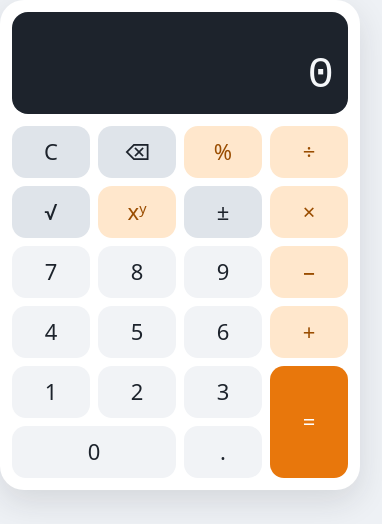
Calculator › keeps a pending operator across a square root: 9 + √16 = displays 13
The width and height of the screenshot is (382, 524).
Click the button "9" at (223, 272), box [184,246,262,298]
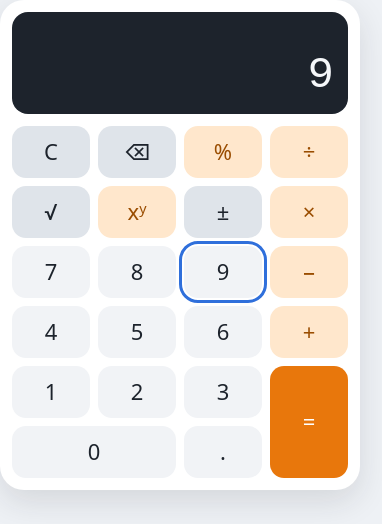
Click the button named "Add" at (309, 332), box [270,306,348,358]
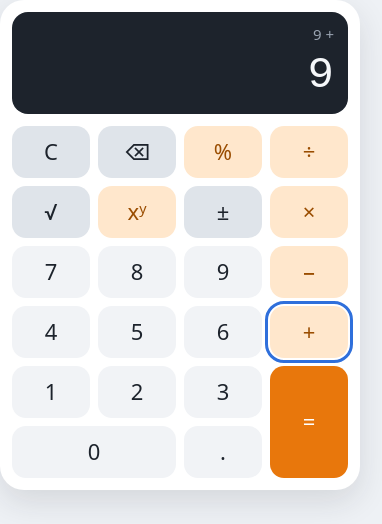
Click the button "1" at (51, 392), box [12,366,90,418]
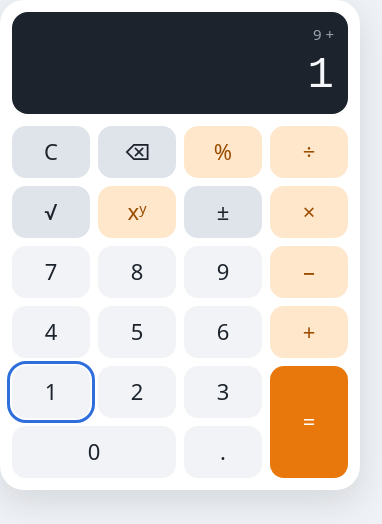
Click the button "6" at (223, 332), box [184,306,262,358]
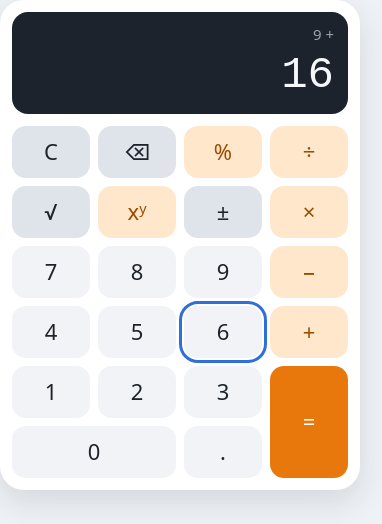
Click the button named "Square root" at (51, 212), box [12,186,90,238]
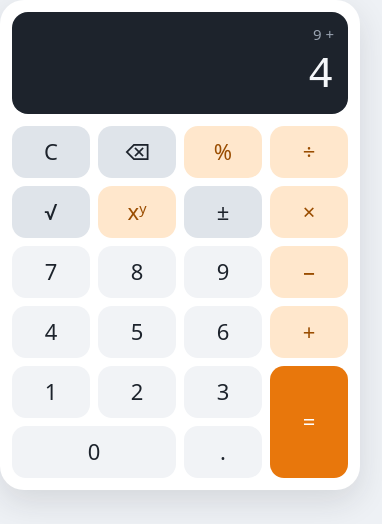
Expected: the text "9 +" is shown, [313,24,334,44]
Expected: the text "4" is shown, [308,50,334,100]
Click the button named "Equals" at (309, 422), box [270,366,348,478]
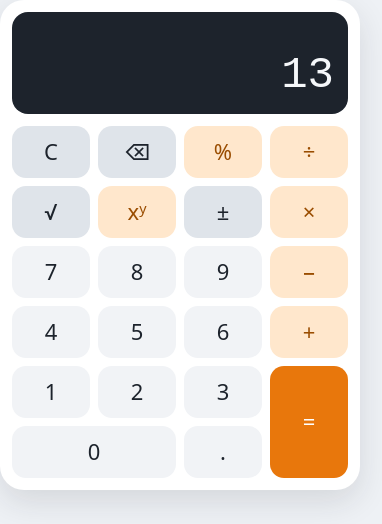
Expected: the text "13" is shown, [281,50,334,100]
